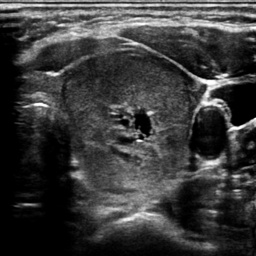mass: (63, 56, 192, 192)
